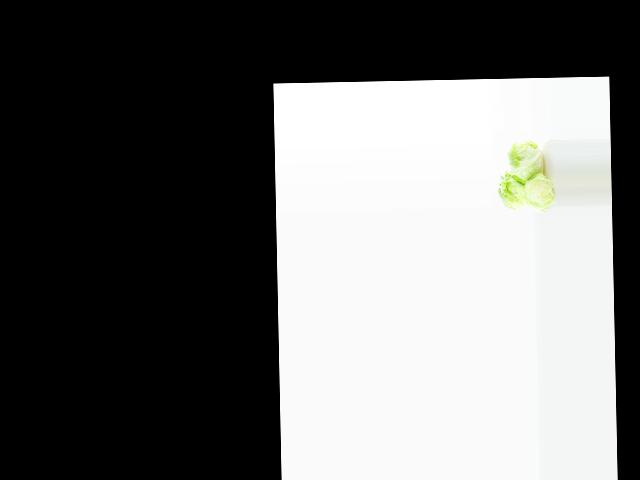lettuce: (494, 168, 528, 211)
